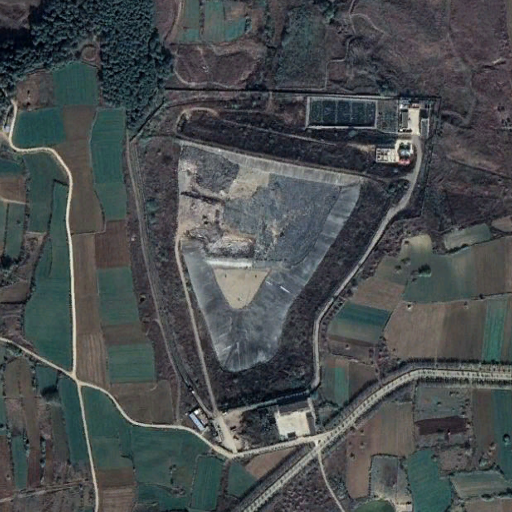lf: (172, 138, 361, 376)
